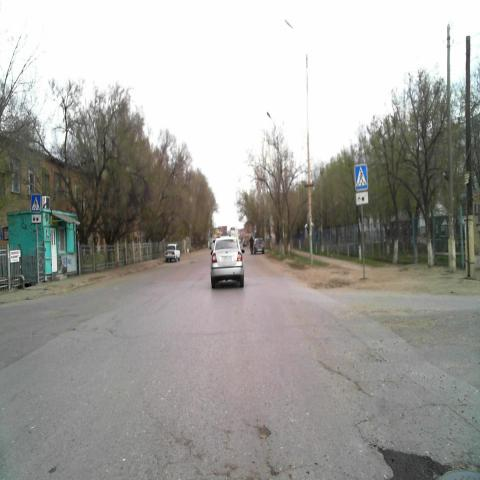8_15: (356, 191, 368, 205)
